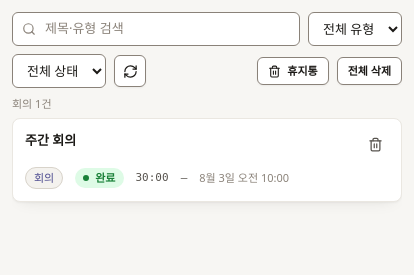
Test case: 삭제 → 휴지통 → 되돌리기 › 삭제하면 되돌릴 수 있다고 알리고 [되돌리기] 를 준다
This screenshot has width=414, height=275.
Step 1. Click the button named "휴지통으로 보내기" → click(375, 145), box [361,131,389,159]
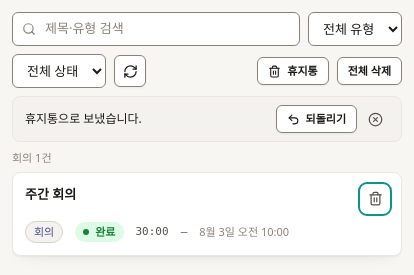
Check: the text "휴지통으로 보냈습니다." is shown, box [25,110,142,128]
Check: the button "되돌리기" is shown, box [276,105,357,133]
